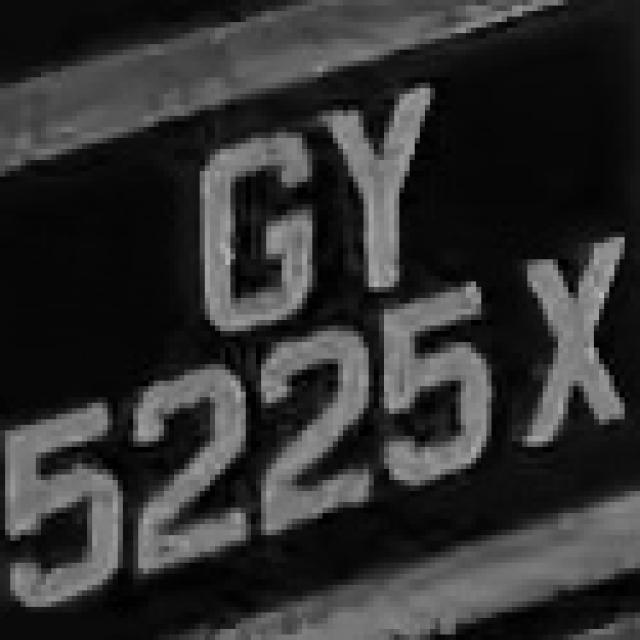2: (123, 359, 261, 579), (261, 320, 389, 557)
5: (15, 364, 123, 624), (374, 281, 496, 502)
G: (179, 127, 307, 336)
X: (512, 215, 640, 458)
Y: (312, 66, 466, 298)
